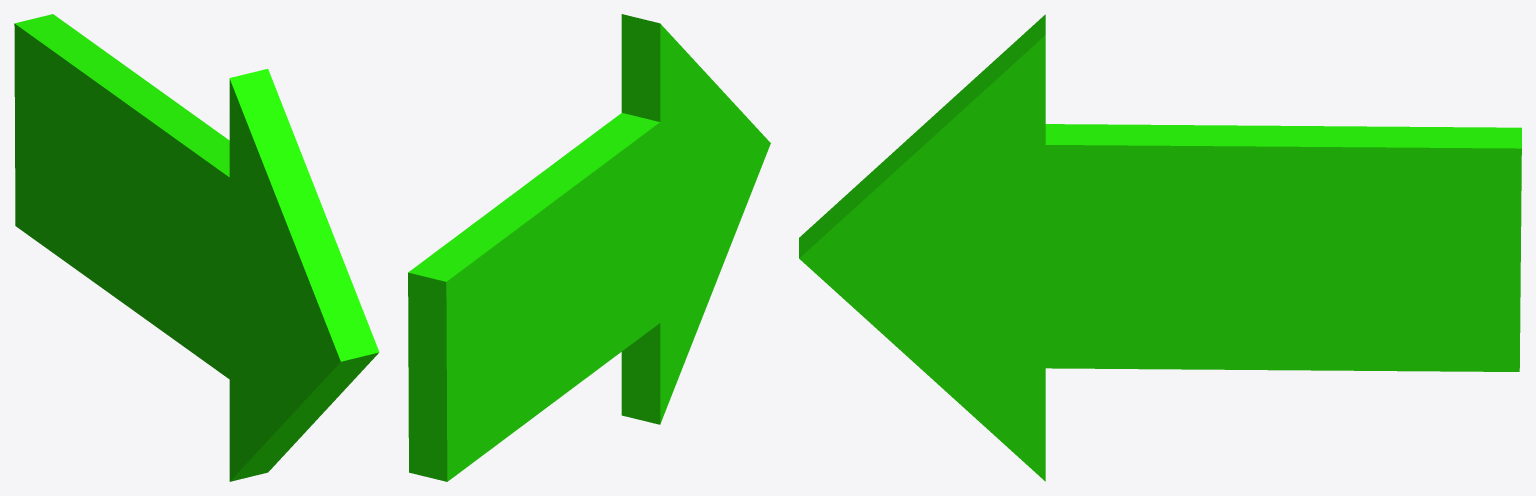
Rendered from arrow2.obj.
3 renders of one model, left to right at view 1: azimuth 30°, elevation 25°; view 2: azimuth 150°, elevation 25°; view 3: azimuth 270°, elevation 25°, orthographic. The views are drawn at different scales.
Parts seen in each view (by area): view 1: Arrow; view 2: Arrow; view 3: Arrow.
Boxes of the visible parts, x1,y1,x2,y2 form: Arrow: (14,14,379,481); Arrow: (408,14,770,481); Arrow: (799,14,1521,481).
Bounding box in the file's own units: 0.5 × 5 × 7.33.
